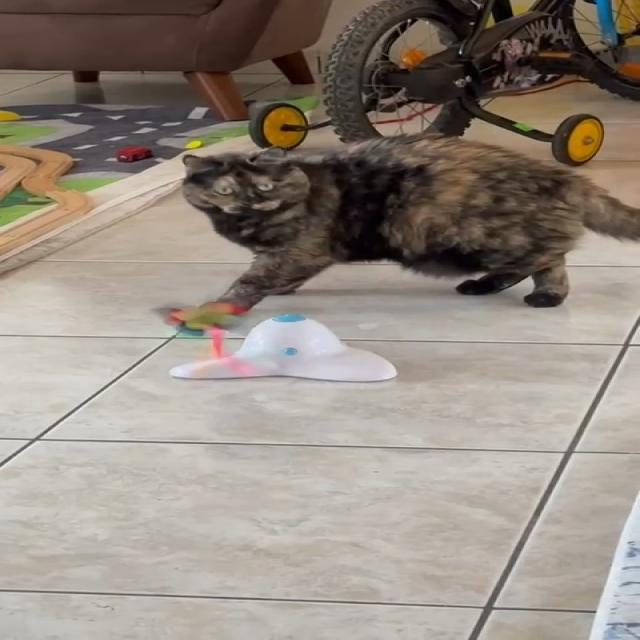authorized: (164, 132, 637, 320)
